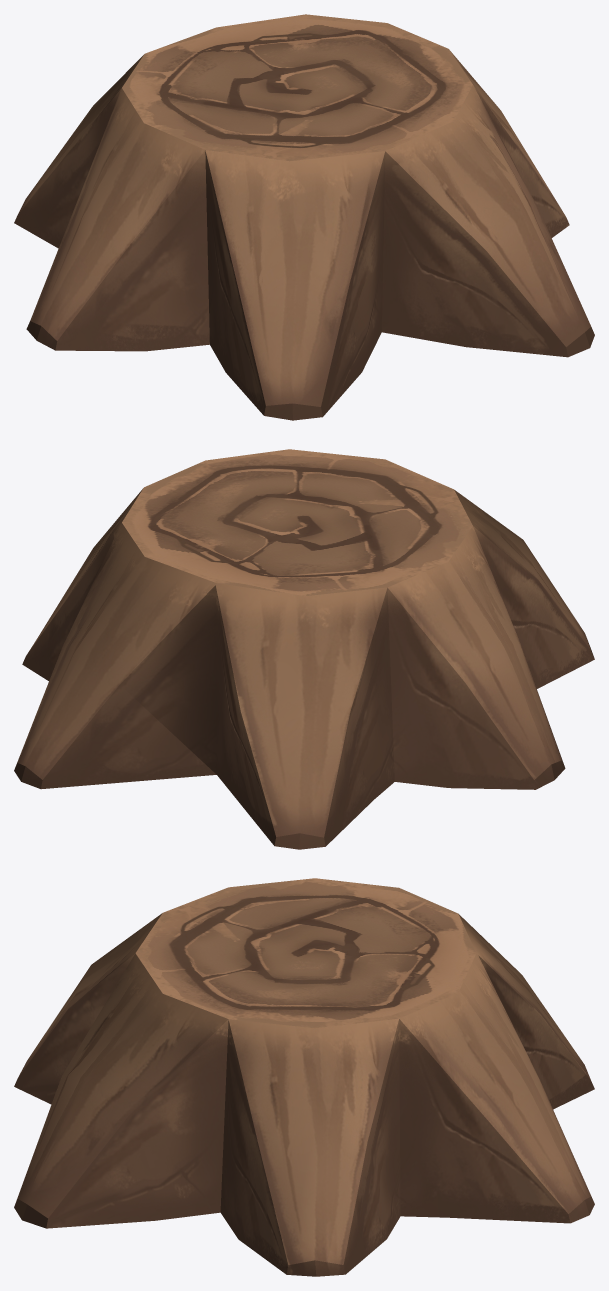
File: Tree_Root.fbx
3 views of the same model, one above another, from view 1: azimuth 30°, elevation 25°; view 2: azimuth 150°, elevation 25°; view 3: azimuth 270°, elevation 25° (orthographic).
Visible parts, largest first — view 1: Tree_Root; view 2: Tree_Root; view 3: Tree_Root.
Boxes of the visible parts, <box> form: Tree_Root: <box>14,14,594,420</box>; Tree_Root: <box>14,449,594,849</box>; Tree_Root: <box>14,878,594,1276</box>.
Size of the model in its own units: 2.99 by 1.05 by 2.86.
